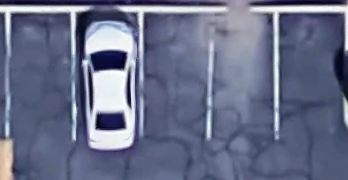Occupied: (73, 12, 142, 141)
Vacant: (141, 12, 211, 141), (276, 12, 346, 141), (7, 11, 74, 141), (210, 12, 276, 141)
